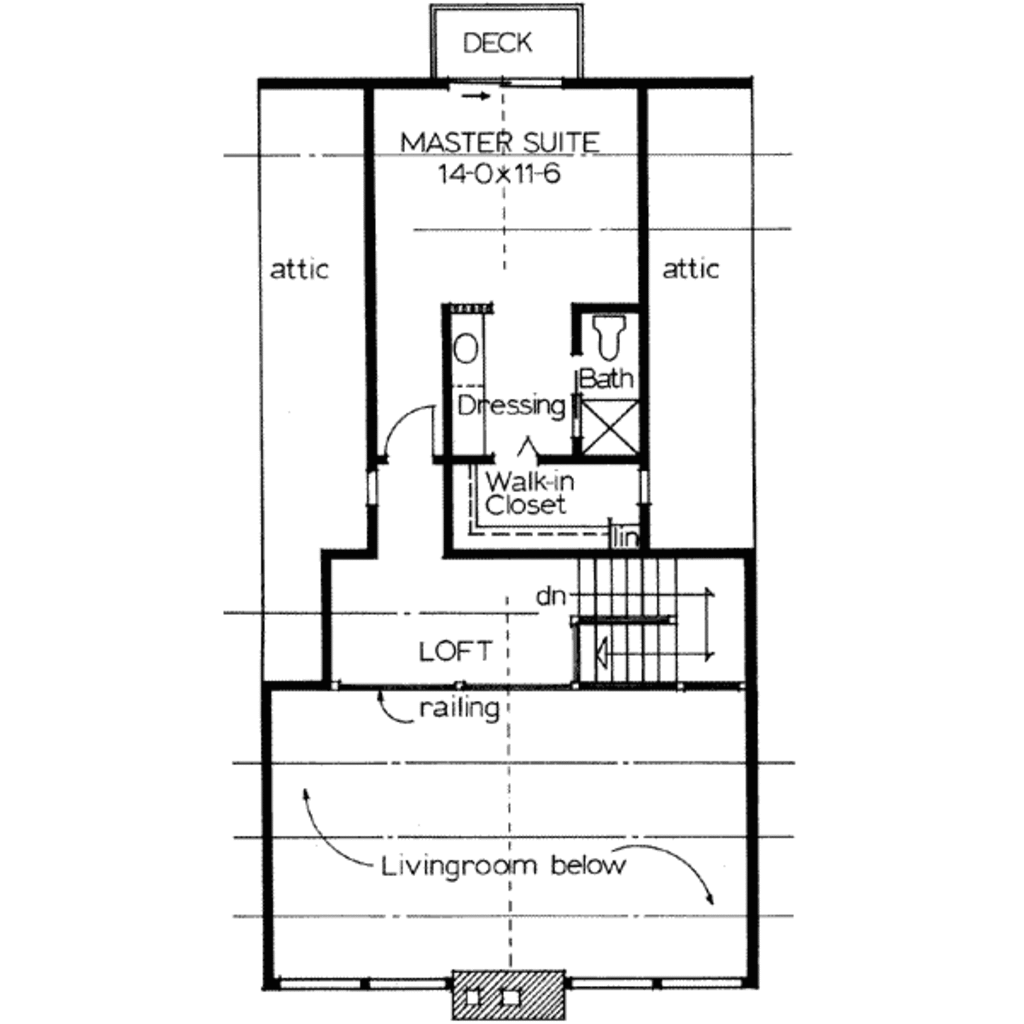door: (381, 403, 443, 461)
large_sink: (573, 305, 641, 373)
small_sink: (449, 306, 497, 392)
stairs: (576, 558, 754, 681)
window: (279, 971, 451, 992), (576, 976, 738, 998), (498, 68, 565, 95), (624, 465, 662, 506), (357, 468, 391, 509)
